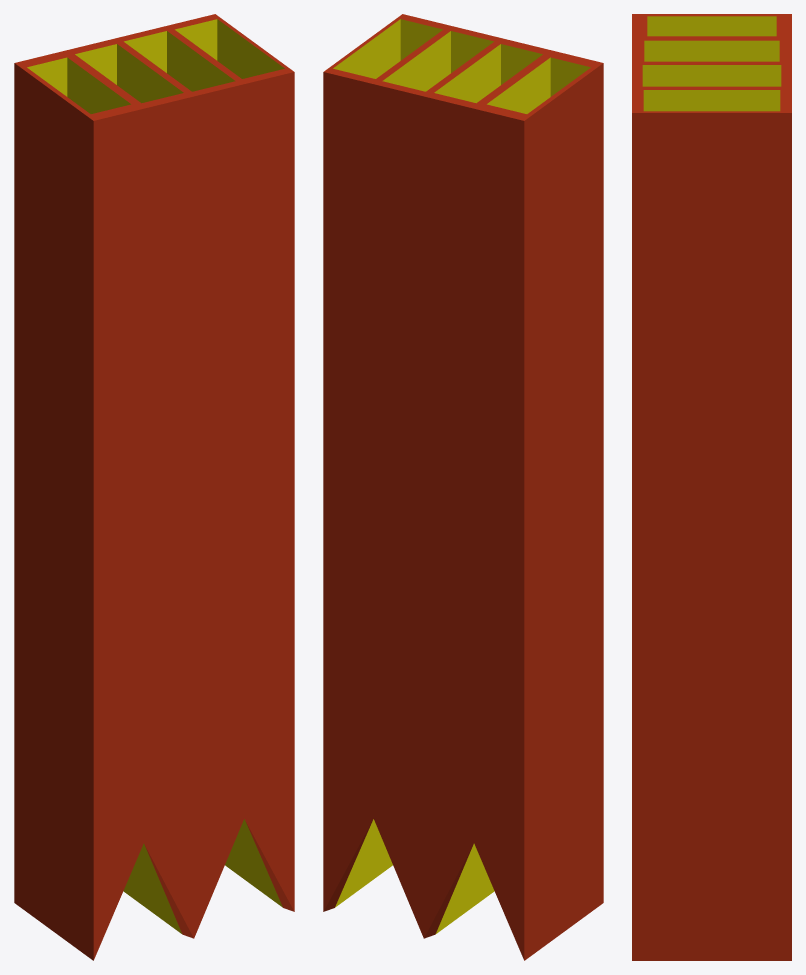
File: dropshipRearEngine.fbx
The picture shows the model from 3 angles, left to right: view 1: azimuth 30°, elevation 25°; view 2: azimuth 150°, elevation 25°; view 3: azimuth 270°, elevation 25°; orthographic projection.
Visible parts, largest first — view 1: rearLeftEngine; view 2: rearLeftEngine; view 3: rearLeftEngine.
Part boxes in pixels (x1,y1,x2,y2): rearLeftEngine: [14, 14, 294, 960]; rearLeftEngine: [323, 14, 603, 960]; rearLeftEngine: [632, 14, 791, 960].
Bounding box in the file's own units: 0.612 × 2.45 × 0.4177.
